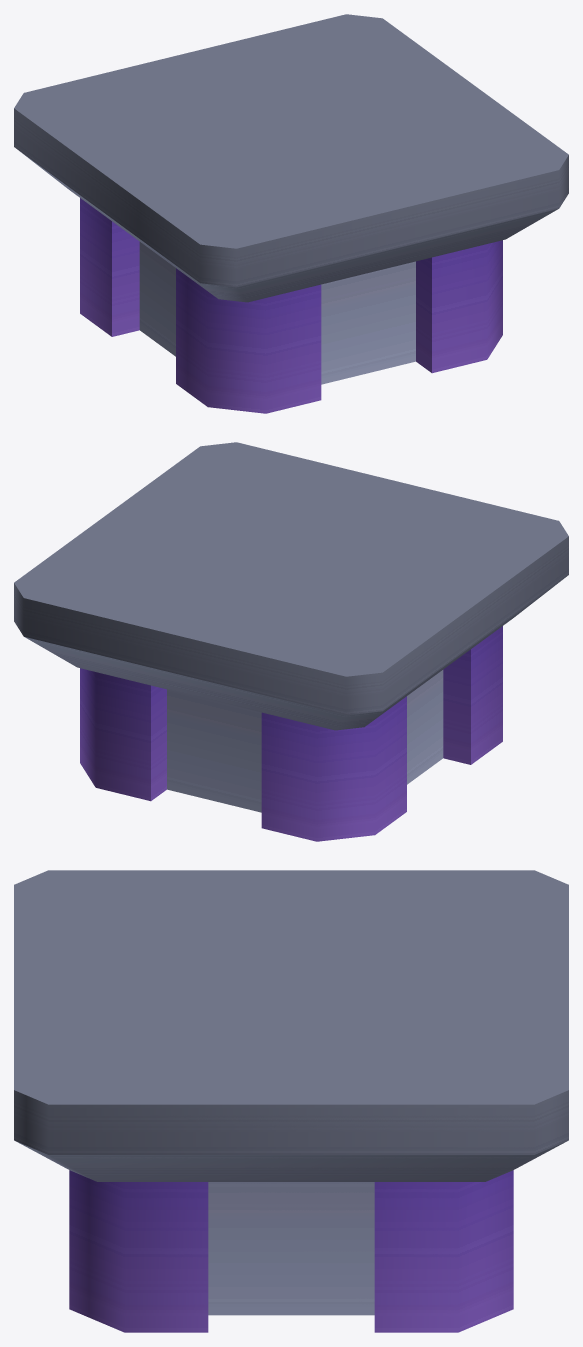
File: tower-square-middle-b.glb
3 renders of one model, top to bottom at view 1: azimuth 30°, elevation 25°; view 2: azimuth 150°, elevation 25°; view 3: azimuth 270°, elevation 25°, orthographic. The views are drawn at different scales.
Visible parts, largest first — view 1: tower-square-middle-b; view 2: tower-square-middle-b; view 3: tower-square-middle-b.
Part boxes in pixels (x1,y1,x2,y2): tower-square-middle-b: [14, 14, 568, 413]; tower-square-middle-b: [14, 442, 568, 841]; tower-square-middle-b: [14, 870, 568, 1332].
Bounding box in the file's own units: 1 × 0.5001 × 1.
Materials: 1 (1 with a texture image).
